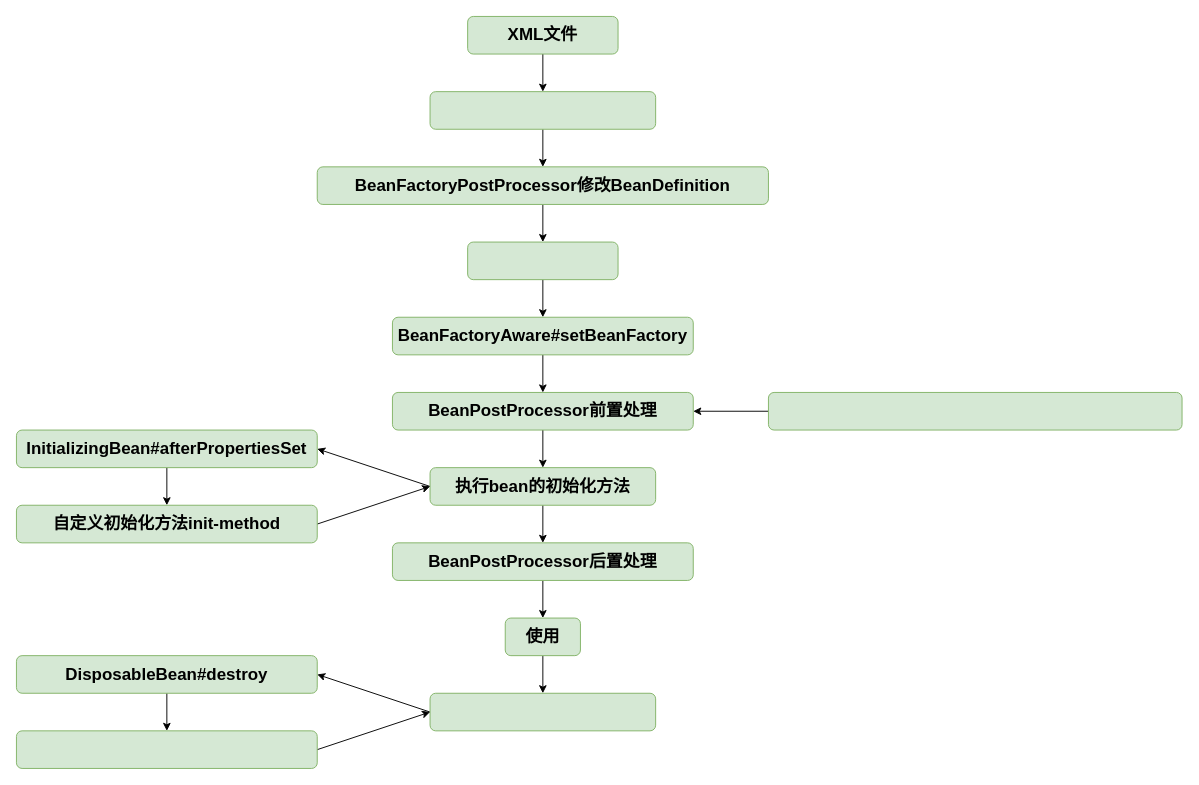
This 1199x785 diagram has some shape labels left out. Here are the shapes that lost their labels. From the top down, the centre of each, then its label:
(x=542, y=110): BeanDefinition
(x=542, y=260): bean实例化
(x=975, y=411): ApplicationContextAware#setApplicationContext
(x=542, y=711): 执行bean的销毁方法
(x=166, y=749): 自定义销毁方法destroy-method
